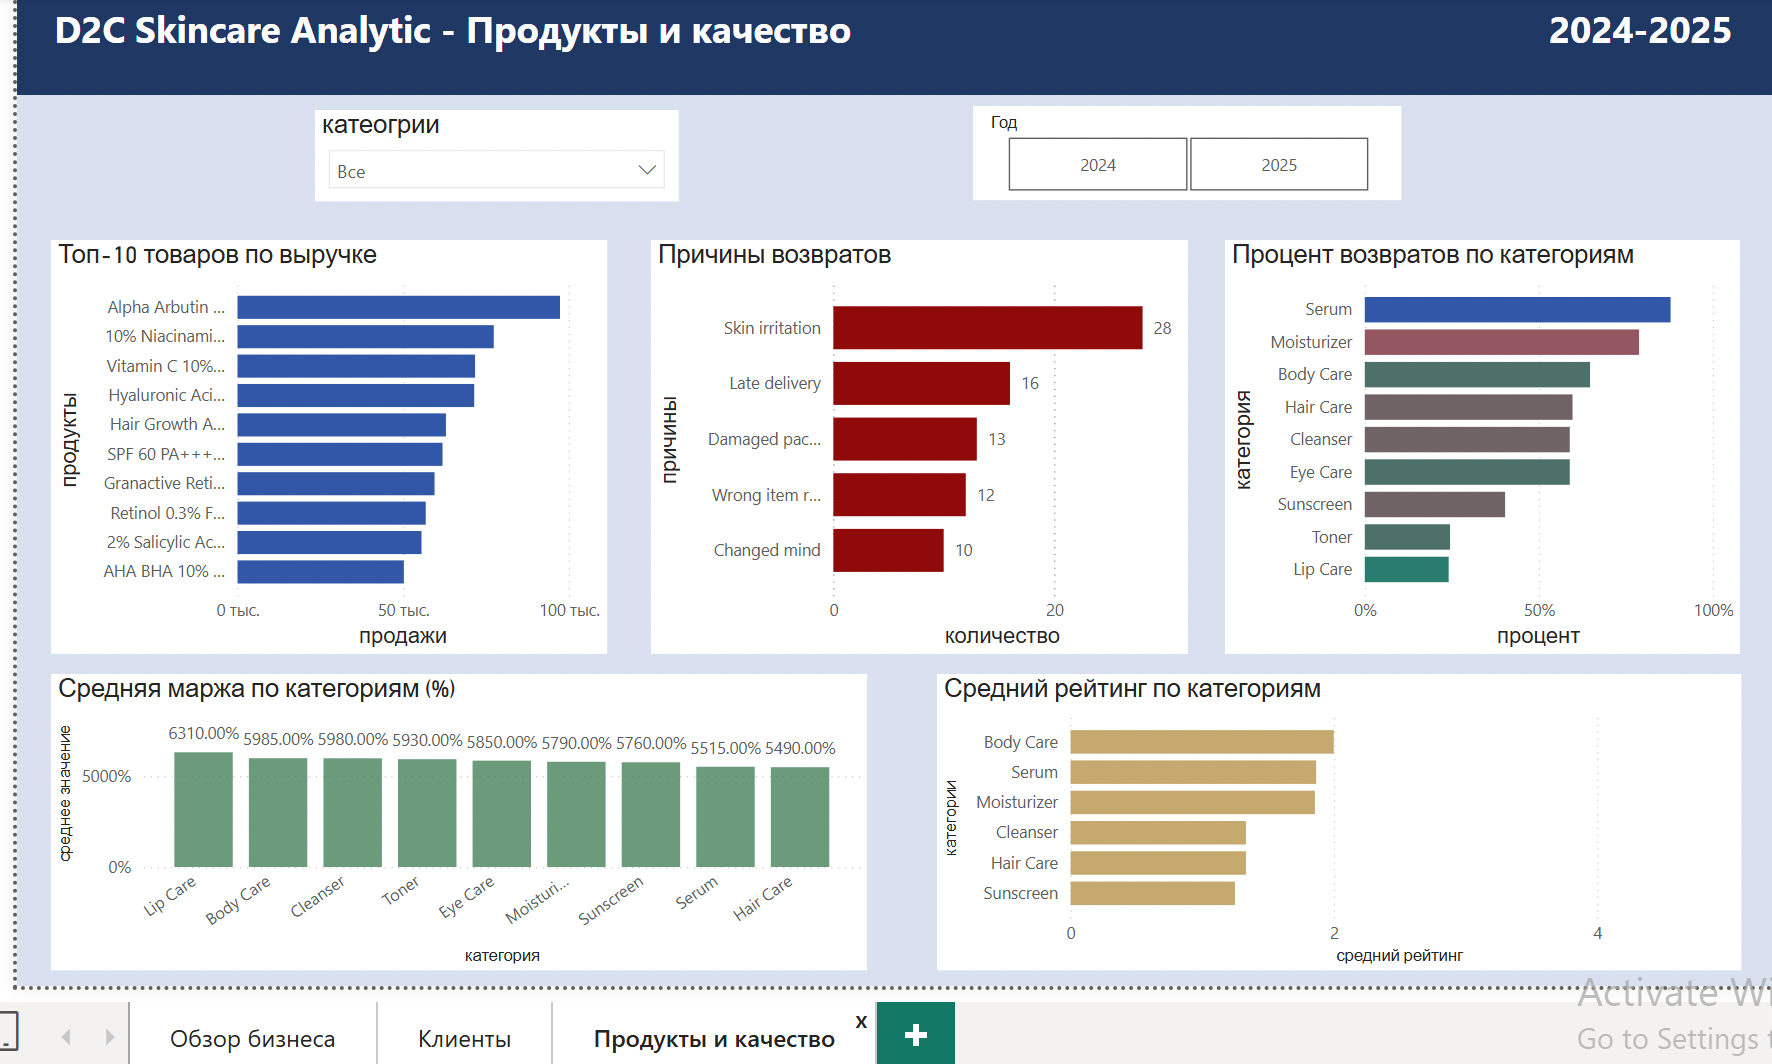

The dashboard page shown, as its layout file describes it:
{"tool":"powerbi","page":{"name":"Продукты и качество","canvas":[1280,720],"ordinal":2},"visuals":[{"type":"clusteredBarChart","title":"Топ-10 товаров по выручке","fields":{"Category":["Products.product_name"],"Y":["Sum(Order_Items.item_total)"]},"box":[24.5,176.9,404.5,301.2],"z":0},{"type":"clusteredColumnChart","title":"Средняя маржа по категориям (%)","fields":{"Category":["Products.category"],"Y":["Avg(Products.МаржаПроцент)"]},"box":[24.5,493.8,593.6,215.4],"z":1000},{"type":"clusteredBarChart","title":"Причины возвратов","fields":{"Category":["Returns.return_reason"],"Y":["Count(Returns.return_id)"]},"box":[460.5,176.9,390.5,301.2],"z":2000},{"type":"clusteredBarChart","title":"Процент возвратов по категориям","fields":{"Category":["Products.category"],"Y":["Returns.ПроцентВозвратов1"]},"box":[879,176.9,374.7,301.2],"z":3000},{"type":"clusteredBarChart","title":"Средний рейтинг по категориям","fields":{"Category":["Products.category"],"Y":["Orders.СреднийРейтинг"]},"box":[668.9,493.8,584.8,215.4],"z":4000},{"type":"slicer","title":"катеогрии","fields":{"Values":["Products.category"]},"box":[217.1,82.3,264.4,66.5],"z":6000},{"type":"slicer","fields":{"Values":["Orders.order_date.Изменение.Иерархия дат.Год"]},"box":[695.2,80.5,311.7,68.3],"z":7000},{"type":"textbox","box":[0,0,1280,71.8],"z":7001}]}

Visuals, with their boxes on the page's 1280x720 design canvas (x1, y1, x2, y2). These are canvas units, not pixel positions in the 1772x1064 screenshot, which may show the page scaled, cropped or inside an application window:
"Топ-10 товаров по выручке" clusteredBarChart: (24, 177, 429, 478)
"Средняя маржа по категориям (%)" clusteredColumnChart: (24, 494, 618, 709)
"Причины возвратов" clusteredBarChart: (460, 177, 851, 478)
"Процент возвратов по категориям" clusteredBarChart: (879, 177, 1254, 478)
"Средний рейтинг по категориям" clusteredBarChart: (669, 494, 1254, 709)
"катеогрии" slicer: (217, 82, 482, 149)
slicer - Orders.order_date.Изменение.Иерархия дат.Год: (695, 80, 1007, 149)
textbox: (0, 0, 1280, 72)
